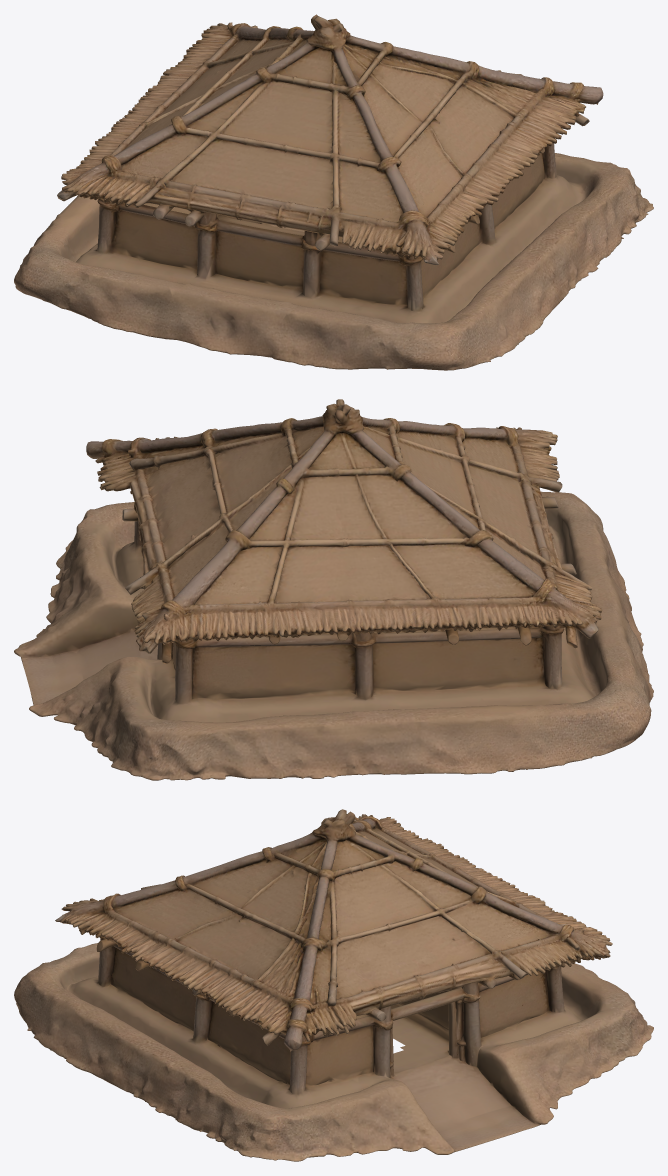
Rendered from houseV2-v1.glb.
3 views of the same model, one above another, from view 1: azimuth 30°, elevation 25°; view 2: azimuth 150°, elevation 25°; view 3: azimuth 270°, elevation 25° (orthographic). The views are drawn at different scales.
Parts seen in each view (by area): view 1: tripo_node_f6f44156-9694-4c36-bf2d-b678a537a897; view 2: tripo_node_f6f44156-9694-4c36-bf2d-b678a537a897; view 3: tripo_node_f6f44156-9694-4c36-bf2d-b678a537a897.
Boxes of the visible parts, x1=… form: tripo_node_f6f44156-9694-4c36-bf2d-b678a537a897: x1=14, y1=14, x2=653, y2=370; tripo_node_f6f44156-9694-4c36-bf2d-b678a537a897: x1=14, y1=399, x2=653, y2=780; tripo_node_f6f44156-9694-4c36-bf2d-b678a537a897: x1=14, y1=809, x2=653, y2=1161.
Bounding box in the file's own units: 1.17 × 0.4782 × 1.19.
Materials: 1 (1 with a texture image).
